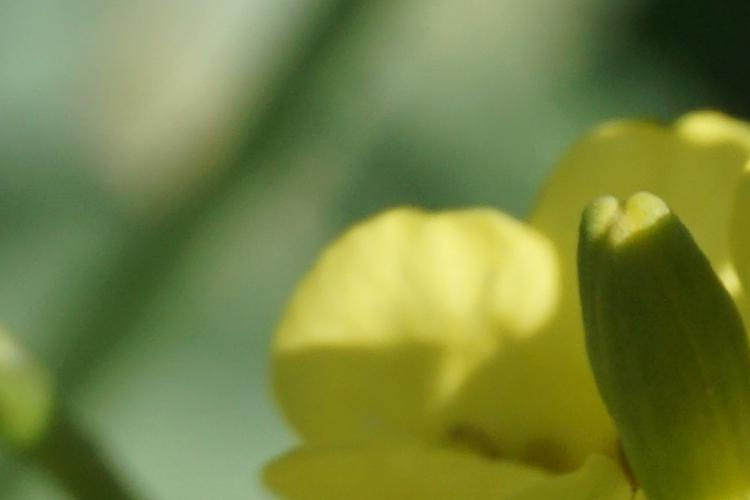bud: (582, 202, 748, 500)
yellow: (265, 88, 750, 498)
